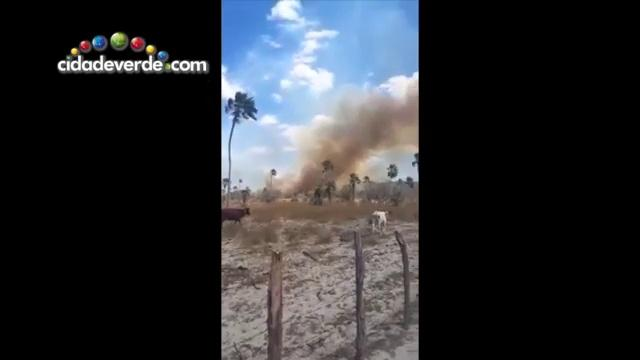smoke: (341, 106, 410, 148)
